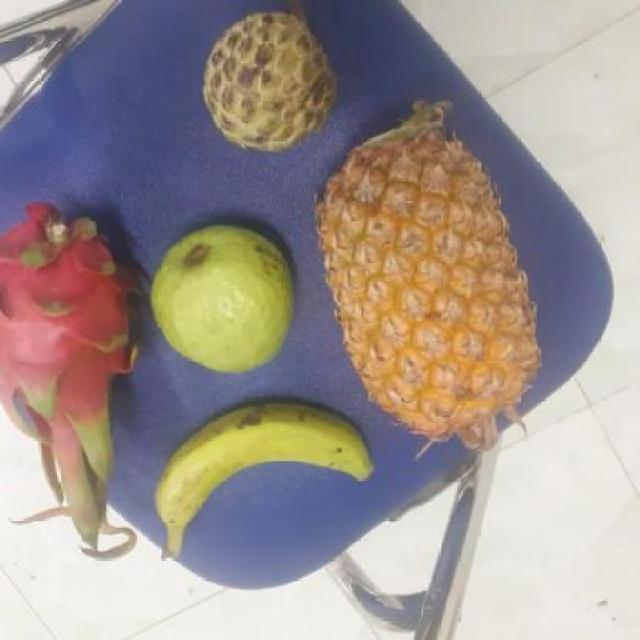banana: (160, 403, 375, 542)
dragon fruit: (0, 210, 152, 447)
guava: (149, 228, 303, 370)
pineapple: (324, 114, 548, 448)
sugar apple: (202, 12, 344, 156)
